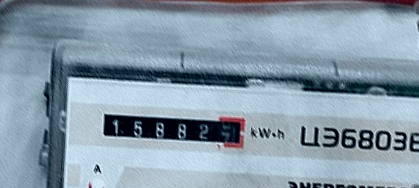1: (109, 116, 120, 135)
2: (197, 121, 209, 140)
5: (131, 119, 143, 137)
7: (219, 130, 231, 142)
8: (152, 120, 165, 138), (175, 121, 187, 139)
screen: (93, 102, 251, 156)
